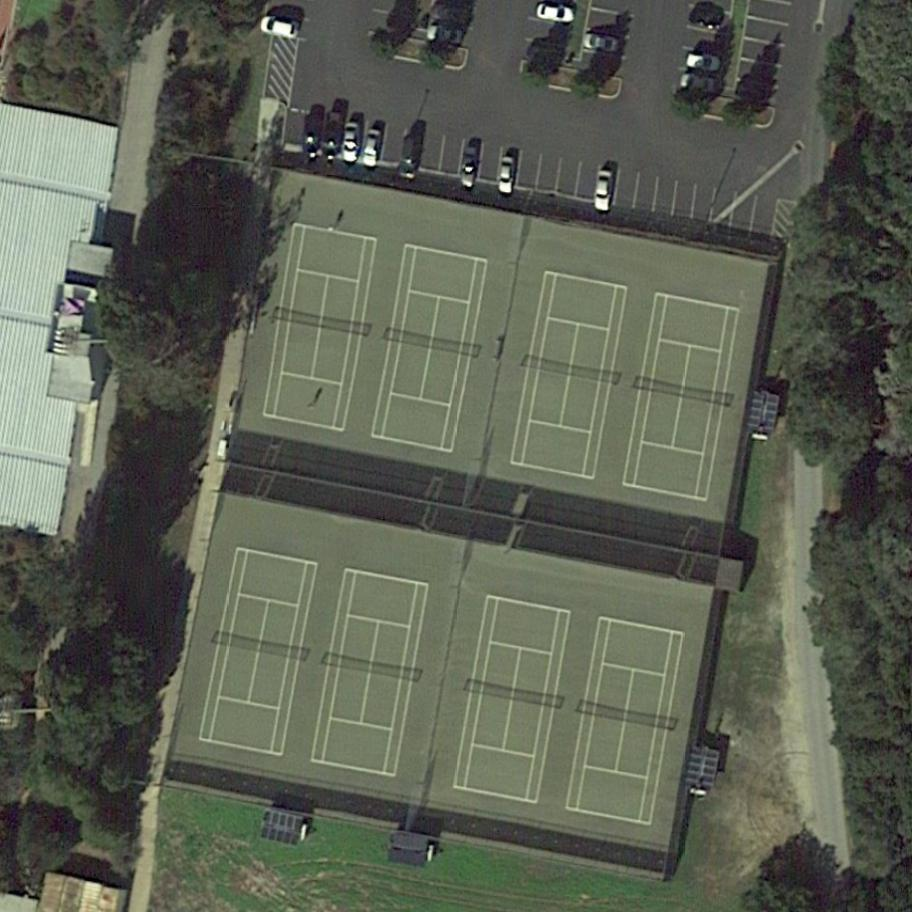small-vehicle: (318, 113, 348, 161), (396, 133, 424, 183), (299, 109, 326, 159), (338, 119, 365, 167), (358, 127, 386, 172), (258, 14, 301, 42), (456, 145, 482, 191), (495, 155, 521, 199), (426, 21, 467, 48), (591, 170, 616, 214), (536, 1, 577, 27), (679, 70, 720, 96), (582, 31, 620, 56), (687, 7, 726, 31), (686, 51, 723, 76)
